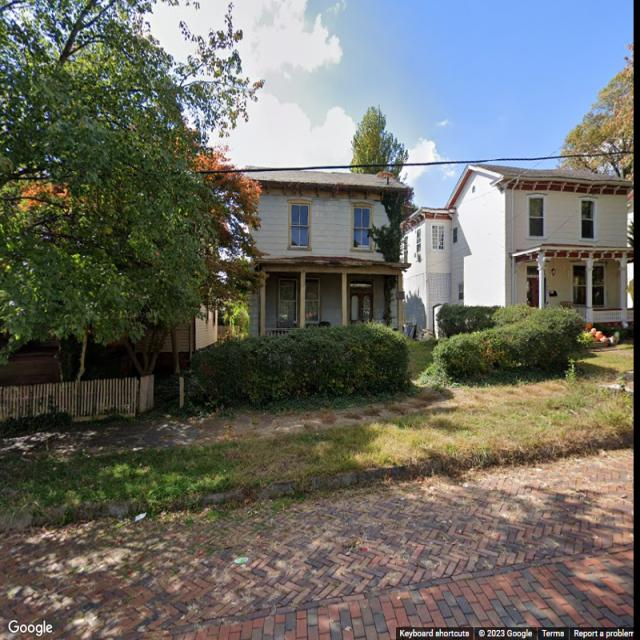House: (400, 165, 633, 339), (242, 165, 412, 346), (25, 236, 218, 358)
